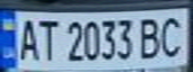0: (81, 17, 100, 62)
2: (60, 17, 84, 63)
3: (115, 16, 139, 61), (100, 17, 118, 62)
A: (12, 16, 42, 62)
B: (136, 15, 166, 61)
C: (157, 12, 190, 59)
T: (33, 16, 60, 62)
